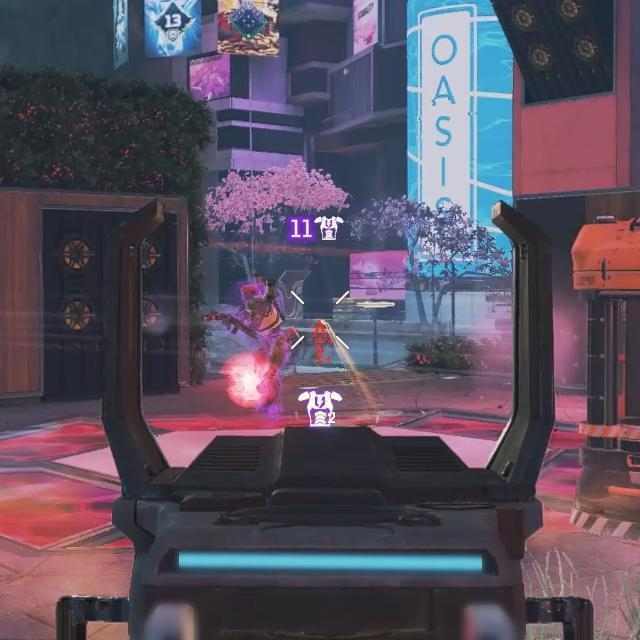avatar: (236, 282, 291, 413)
object: (221, 351, 276, 405)
